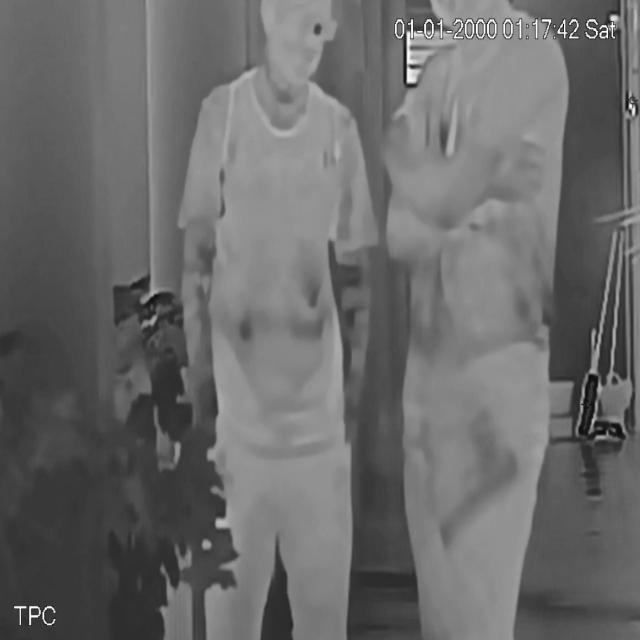Weapon: (438, 412, 523, 566)
